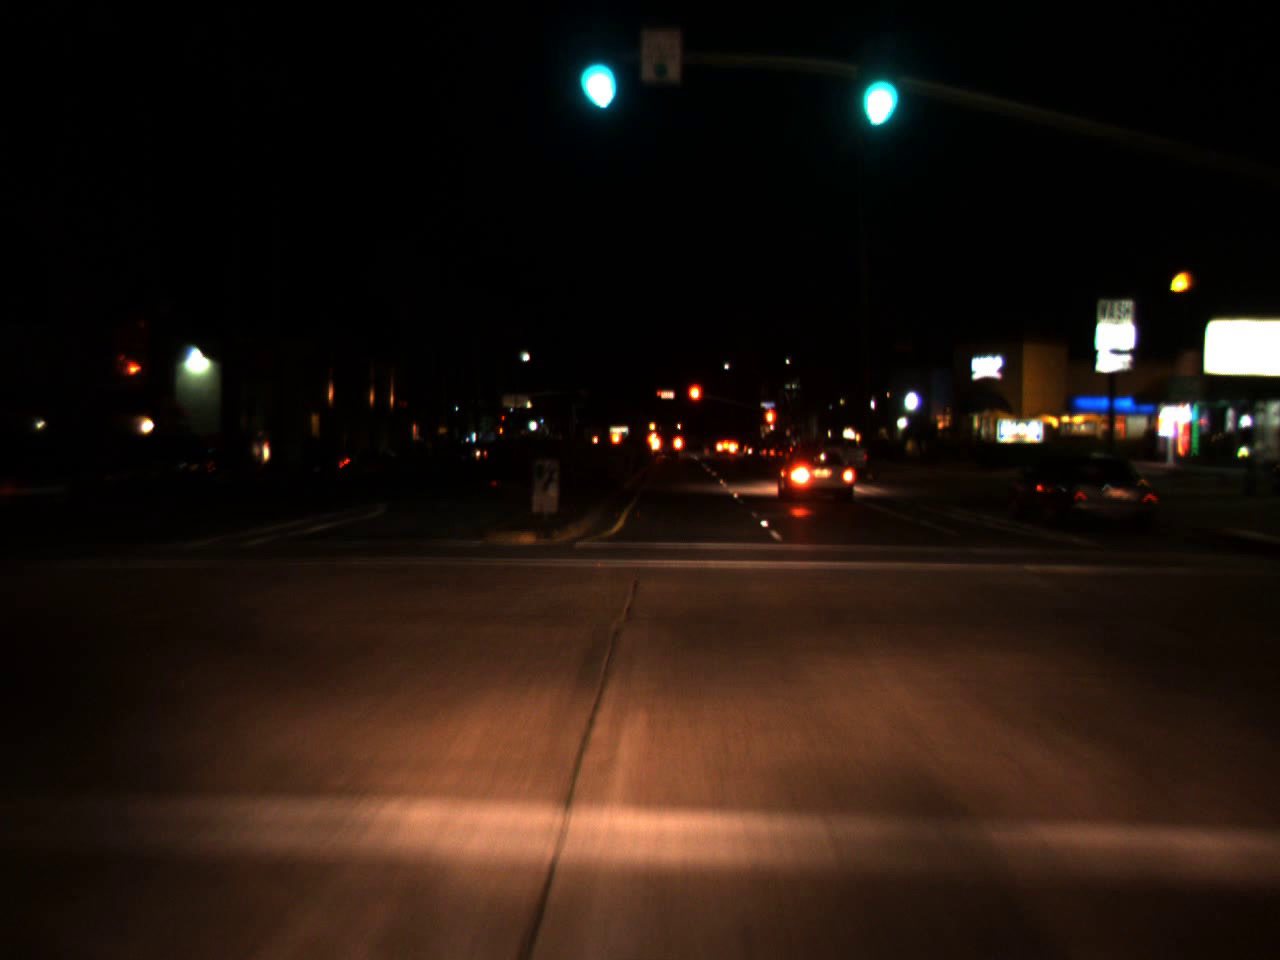go: (577, 30, 619, 117), (855, 50, 898, 131)
stop: (686, 381, 703, 421), (763, 406, 778, 443), (656, 390, 662, 400)
